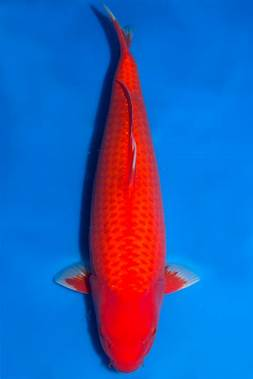red: (53, 6, 200, 372)
